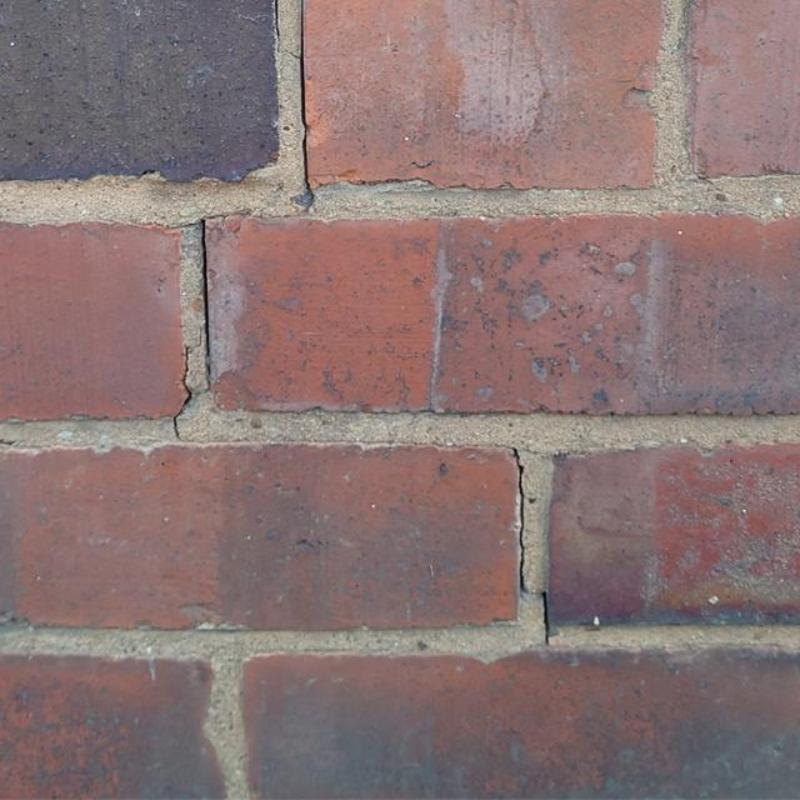pothole: (290, 0, 314, 212), (510, 447, 538, 595), (172, 346, 193, 440), (201, 219, 211, 394), (275, 0, 301, 59), (542, 591, 549, 647)
